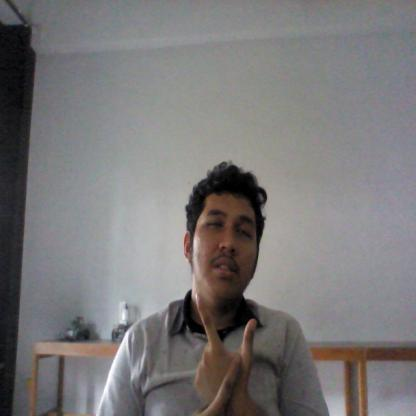Y: (186, 291, 258, 415)
